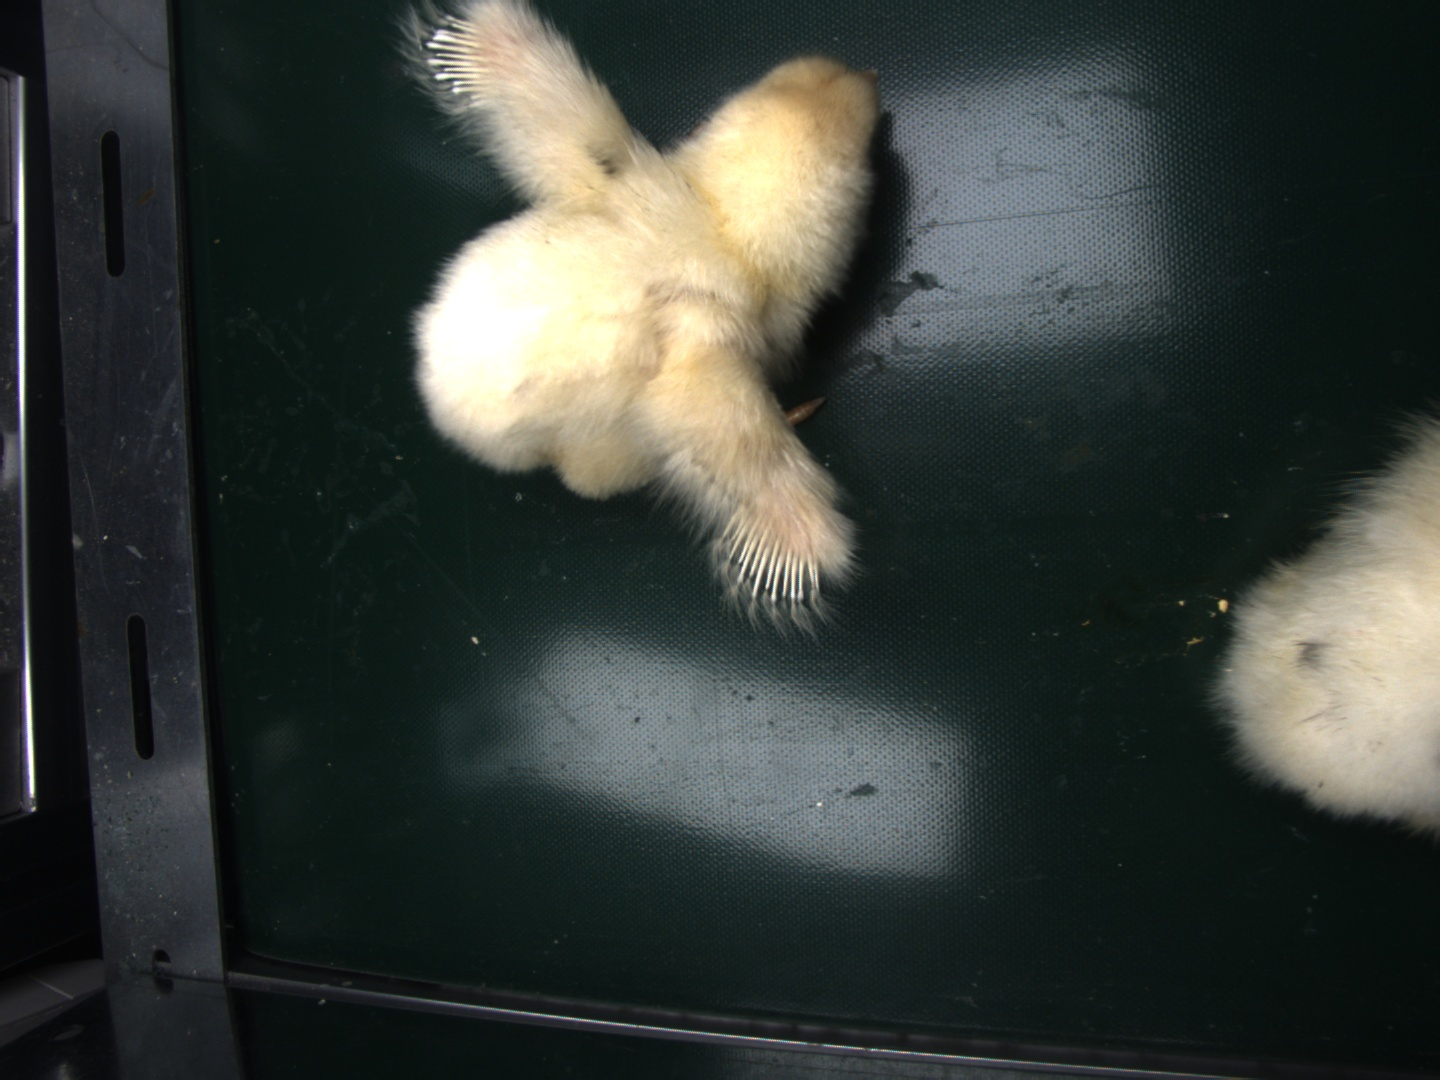male: (721, 516, 824, 602), (423, 14, 488, 96)
